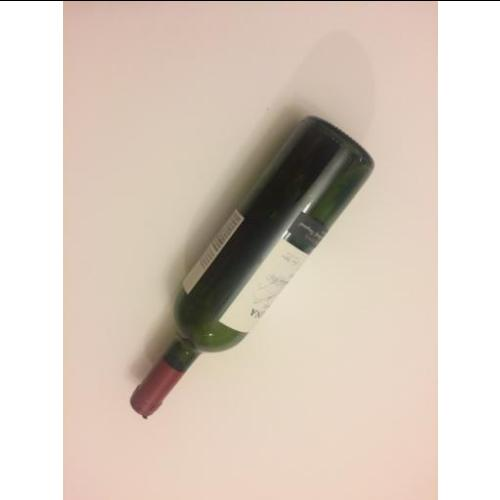glass: (109, 116, 374, 418)
